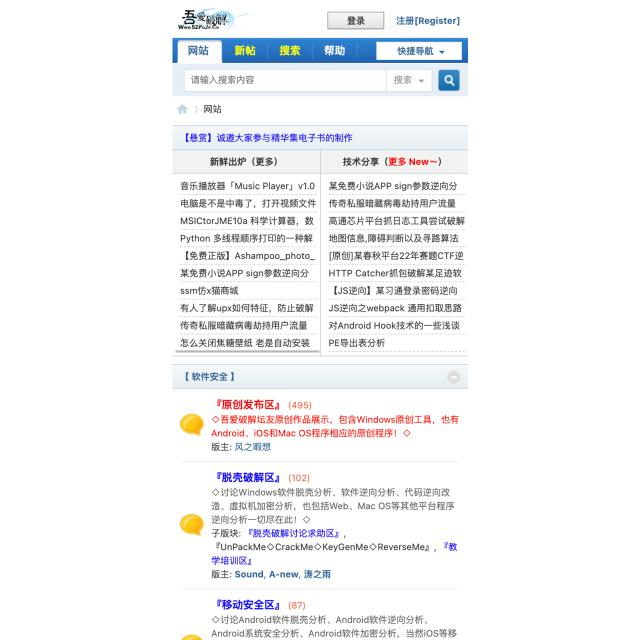input: (184, 70, 433, 92)
logo: (174, 5, 252, 33)
